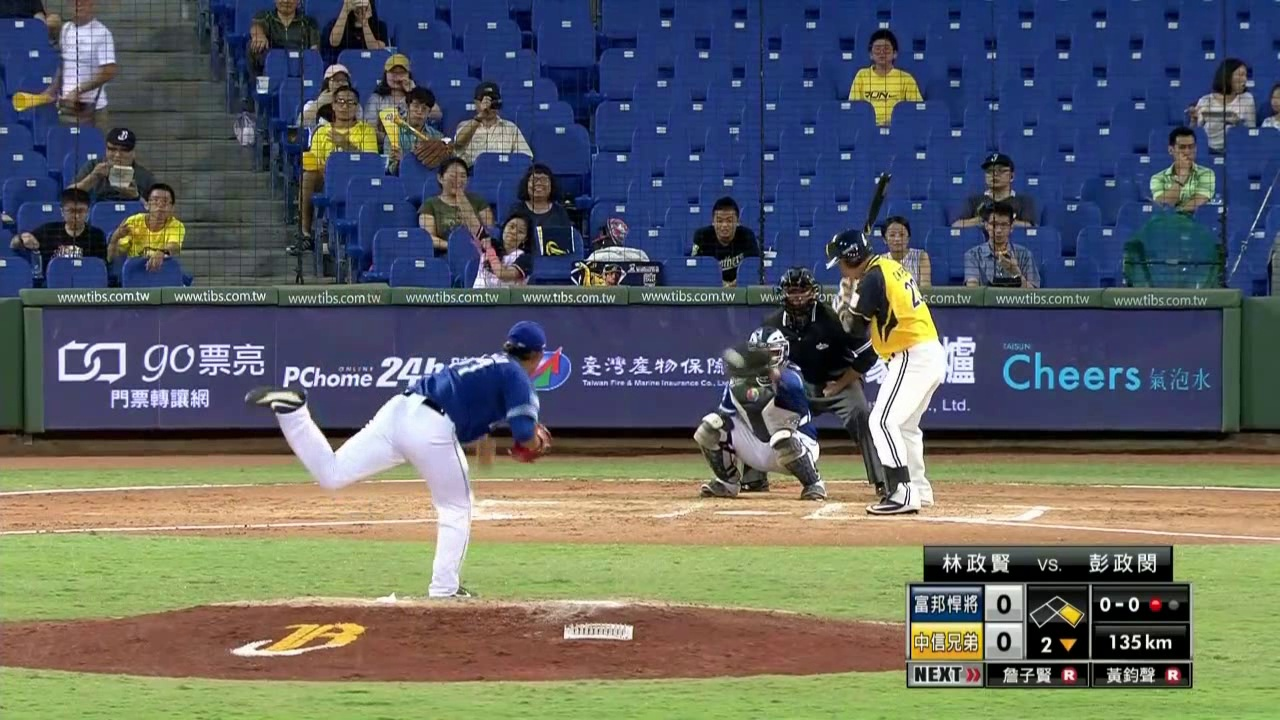ball: (724, 347, 743, 368)
base: (1026, 591, 1087, 630)
bat: (842, 168, 895, 289)
out: (1146, 590, 1182, 621)
score1: (986, 588, 1021, 616)
score2: (989, 628, 1019, 659)
session: (1024, 629, 1090, 659)
speed: (1095, 628, 1186, 655)
strikeball: (1093, 591, 1145, 623)
